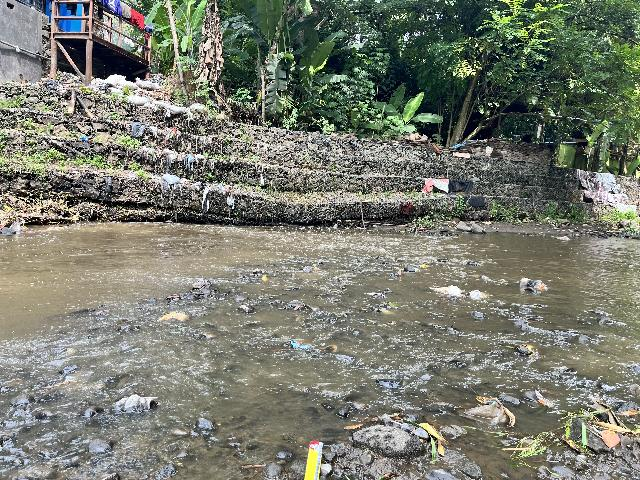Sampah Anorganik: (460, 394, 522, 435), (510, 272, 560, 305), (298, 435, 329, 480), (282, 333, 331, 360), (526, 383, 559, 411), (390, 257, 431, 276)
